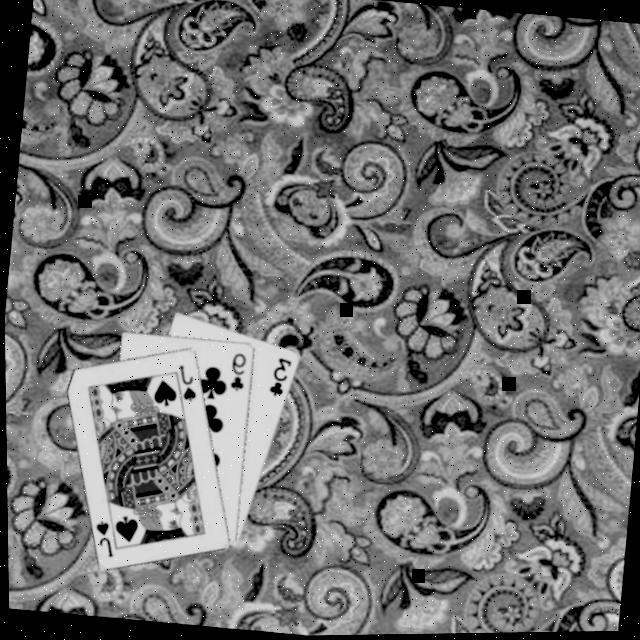3C: (261, 354, 292, 402)
9C: (223, 350, 247, 396)
JS: (169, 362, 199, 406), (86, 517, 116, 561)
